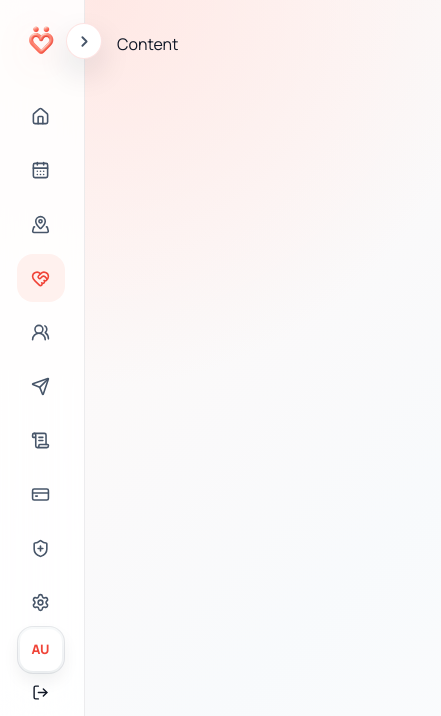
Test case: AdminShell › starts collapsed and expands the sidebar labels on toggle
Expected: the link named "Мэтчи" is shown, top-left (16, 254), bottom-right (64, 302)
Expected: the link named "Рассылки" is shown, top-left (31, 376), bottom-right (50, 396)
Step 1. Click the button named "Открыть меню" → [84, 41], box top-left (66, 23), bottom-right (102, 59)
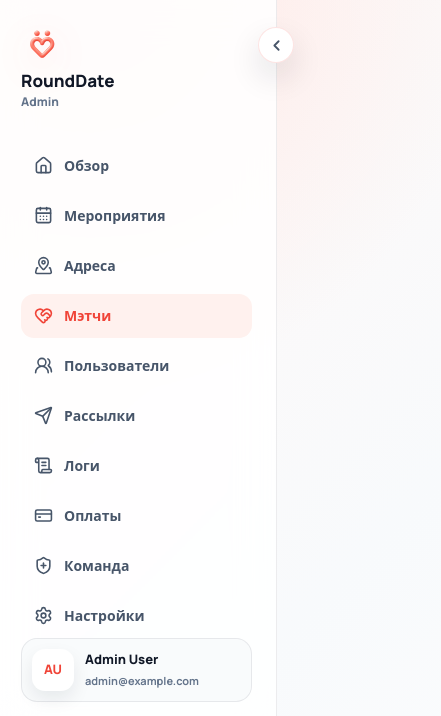
Expected: the button named "Свернуть меню" is shown, top-left (258, 27), bottom-right (294, 63)
Expected: the text "RoundDate" is shown, top-left (21, 72), bottom-right (114, 91)
Expected: the text "Рассылки" is shown, top-left (64, 409), bottom-right (135, 423)
